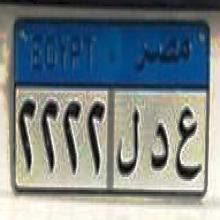2: (16, 91, 36, 176), (61, 98, 83, 173), (40, 95, 60, 175), (87, 95, 106, 174)
ain: (174, 99, 202, 184)
daal: (149, 119, 169, 177)
laam: (117, 102, 143, 178)
